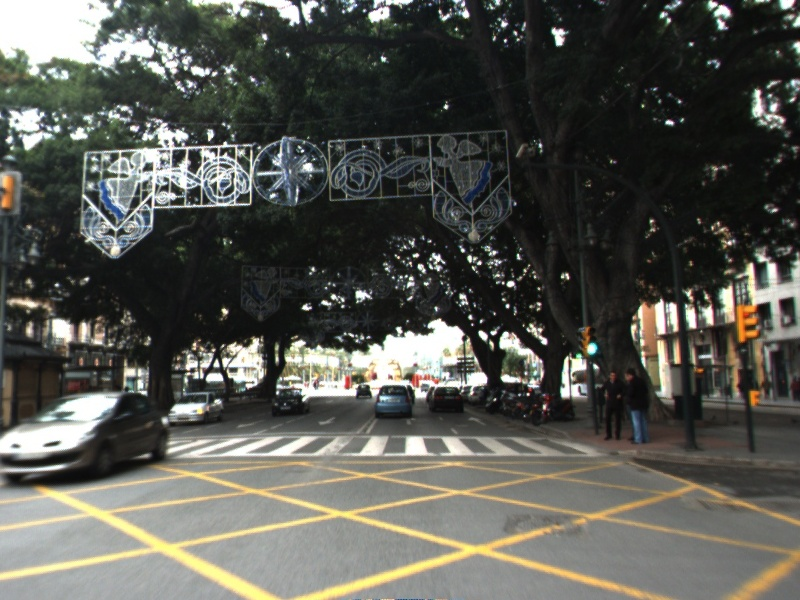STRAIGHT: (466, 414, 489, 428)
